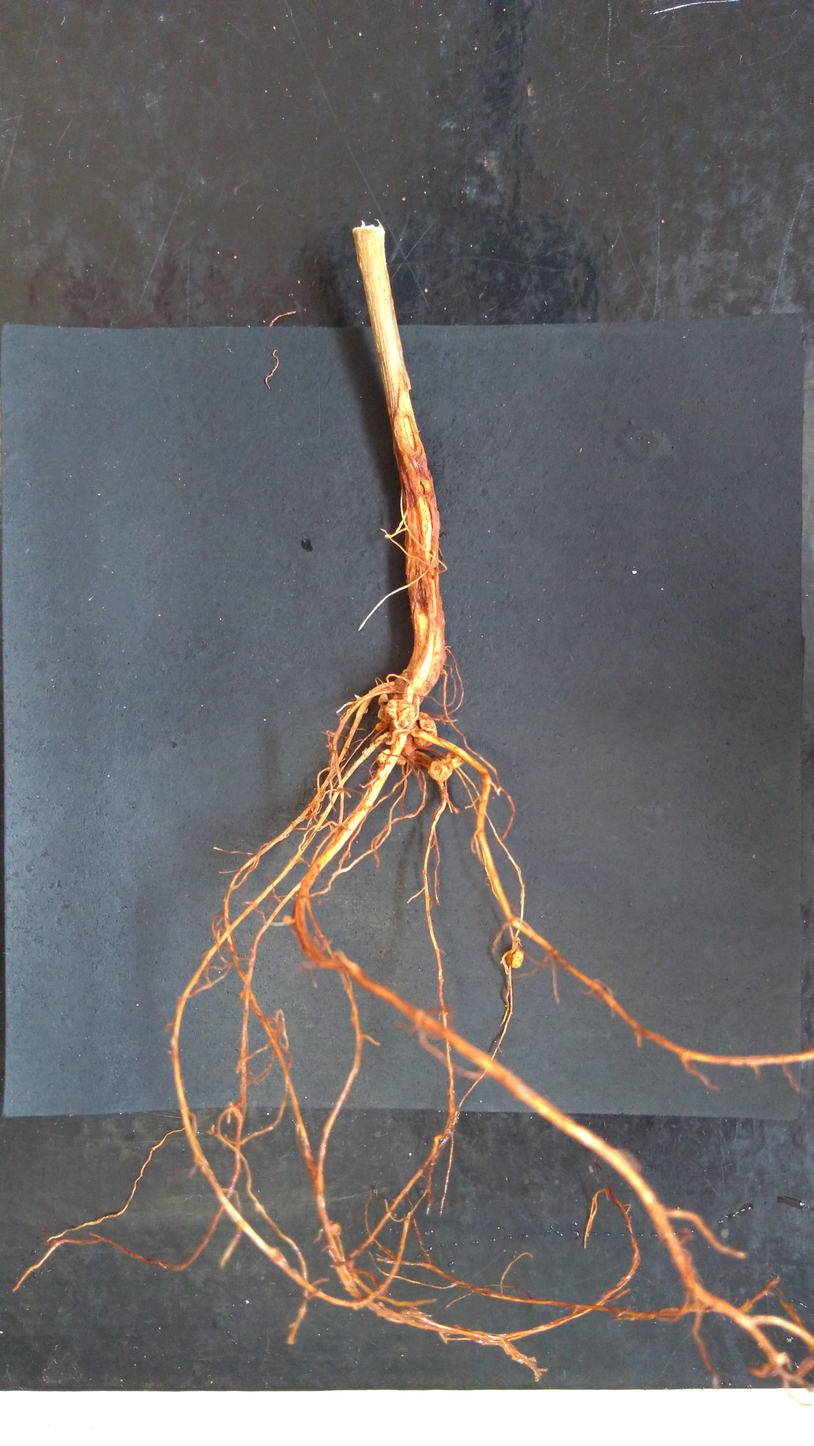nodule: (385, 698, 417, 735), (412, 711, 439, 749), (428, 755, 455, 783), (503, 947, 525, 970), (446, 750, 465, 770), (375, 705, 393, 726), (373, 750, 393, 764), (383, 731, 400, 746), (375, 691, 389, 706), (282, 911, 293, 929), (373, 721, 389, 731), (396, 753, 407, 766)
